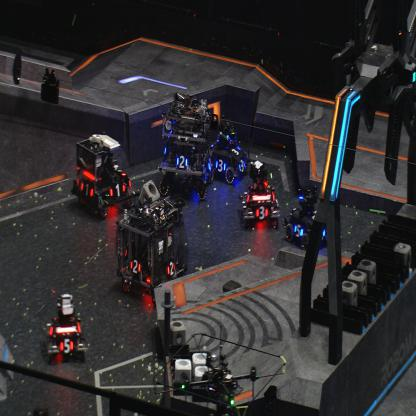car: (116, 195, 188, 305), (157, 92, 215, 200), (70, 133, 138, 220), (282, 183, 328, 253), (44, 292, 87, 365), (237, 160, 280, 231), (206, 119, 249, 185)
